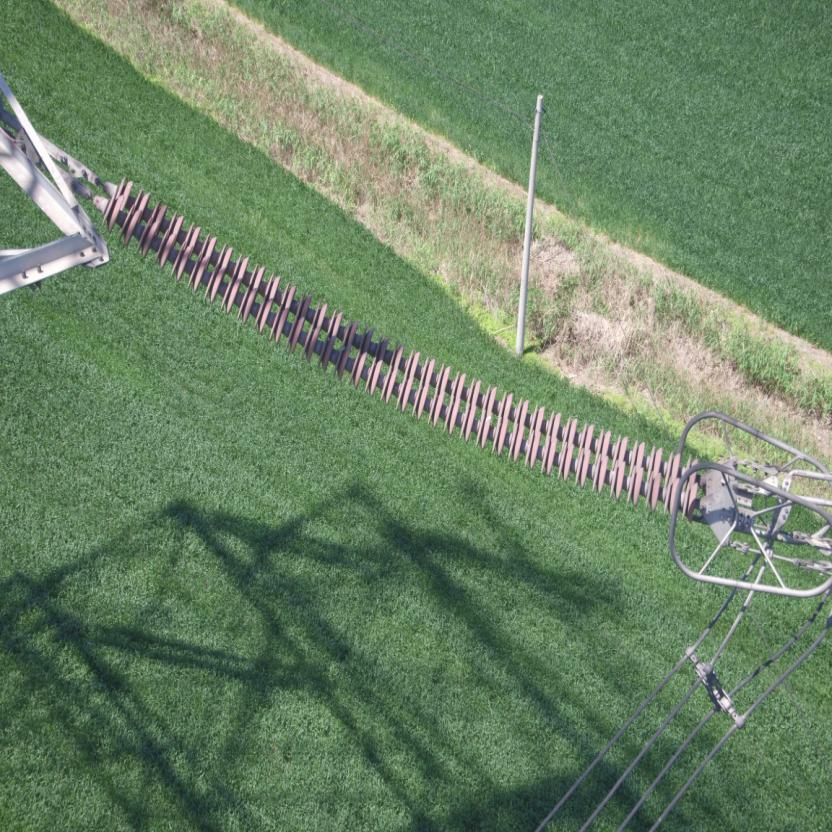insulator: (67, 166, 715, 526)
